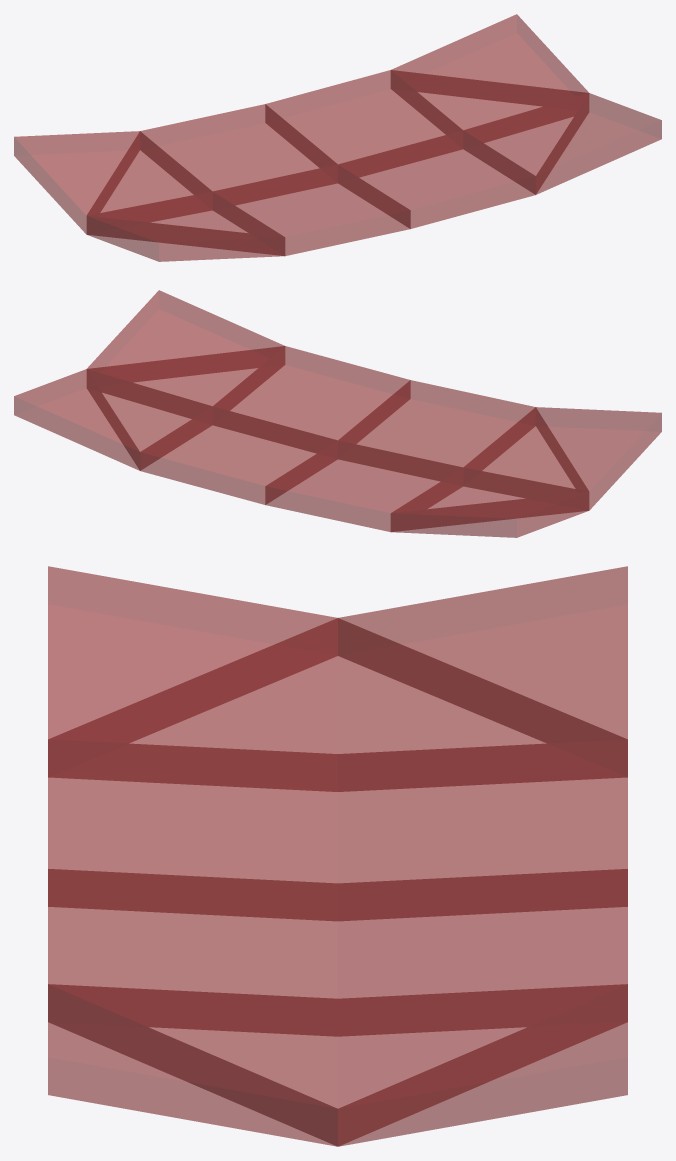
The model's file is SM_Prop_Banner_Roof_04_Collision.fbx.
The picture shows the model from 3 angles, top to bottom: view 1: azimuth 30°, elevation 25°; view 2: azimuth 150°, elevation 25°; view 3: azimuth 270°, elevation 25°; orthographic projection. The views are drawn at different scales.
Parts seen in each view (by area): view 1: SM_Prop_Banner_Roof_04_Collision; view 2: SM_Prop_Banner_Roof_04_Collision; view 3: SM_Prop_Banner_Roof_04_Collision.
Boxes of the visible parts, bbox=[...] form: SM_Prop_Banner_Roof_04_Collision: bbox=[14, 14, 661, 261]; SM_Prop_Banner_Roof_04_Collision: bbox=[14, 290, 661, 537]; SM_Prop_Banner_Roof_04_Collision: bbox=[48, 566, 627, 1146].
Bounding box in the file's own units: 501 × 52.23 × 250.
